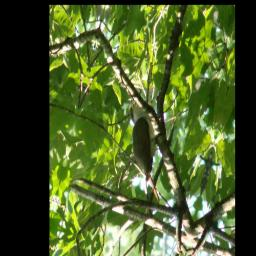Cuckoo: (109, 97, 182, 206)
